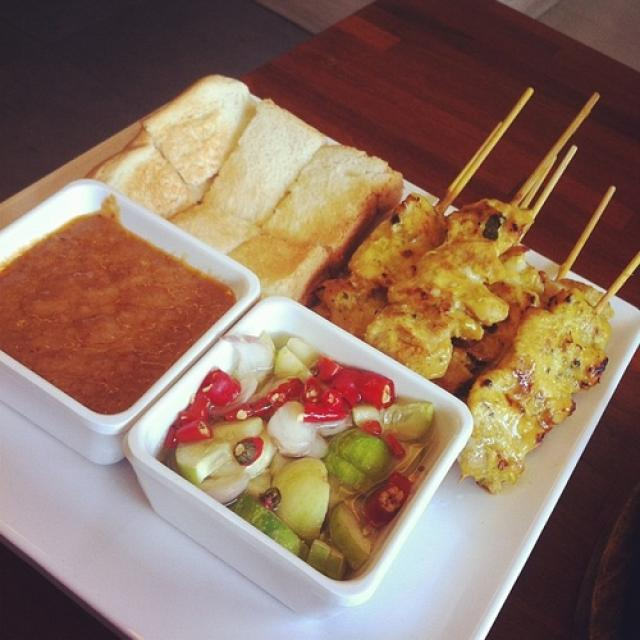牛肉菜式: (8, 69, 620, 629)
